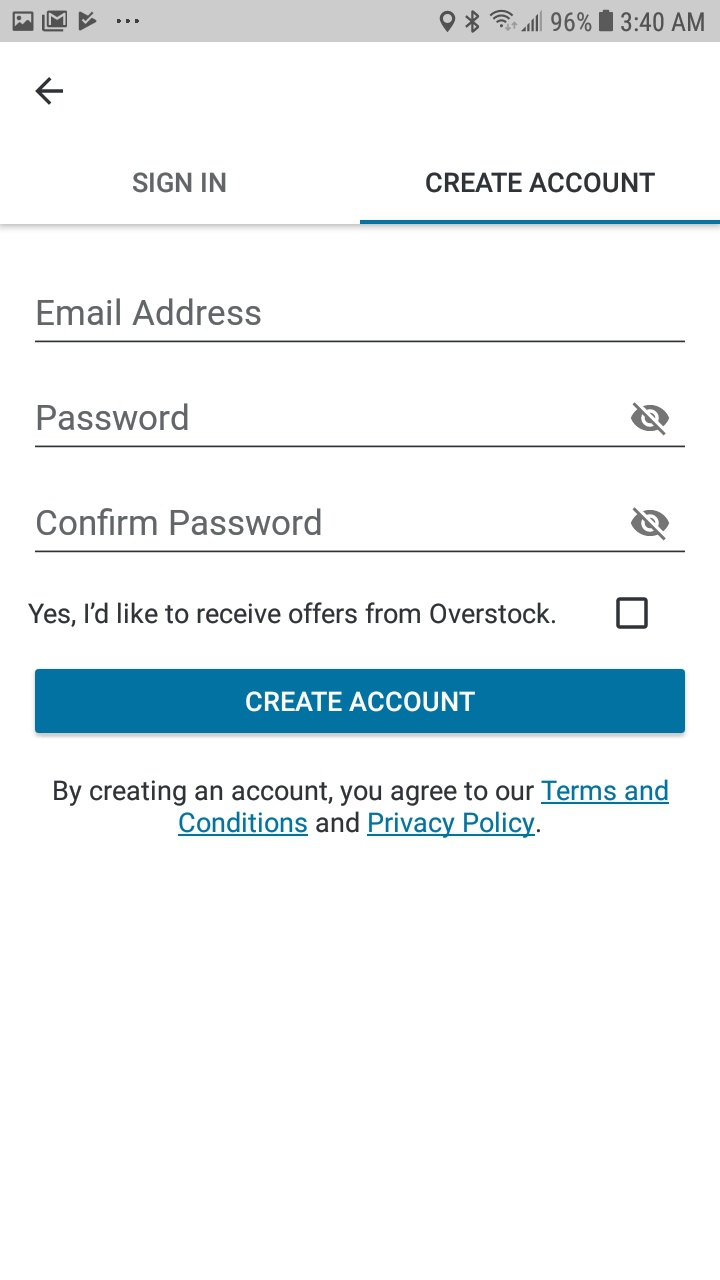CheckedTextView: (28, 597, 649, 630)
EditText: (35, 298, 686, 344), (35, 508, 686, 554), (35, 403, 685, 449)
Icon: (630, 402, 670, 437), (630, 507, 670, 542), (36, 77, 65, 106)
Text: (54, 779, 670, 839), (28, 602, 556, 628), (37, 508, 322, 536), (38, 298, 262, 327), (426, 172, 656, 194), (38, 403, 189, 431), (133, 172, 227, 195)
TextButton: (36, 669, 686, 734)
UpperTaskBar: (1, 1, 720, 43)
